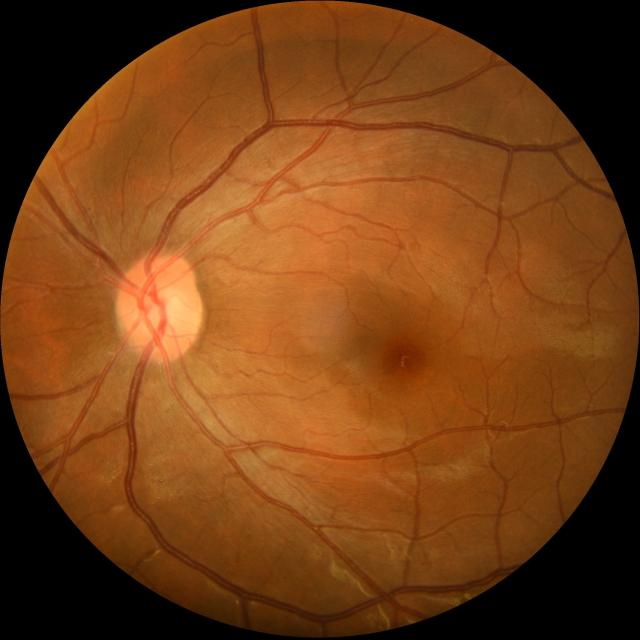OC: (139, 286, 183, 334)
OD: (114, 253, 202, 362)
